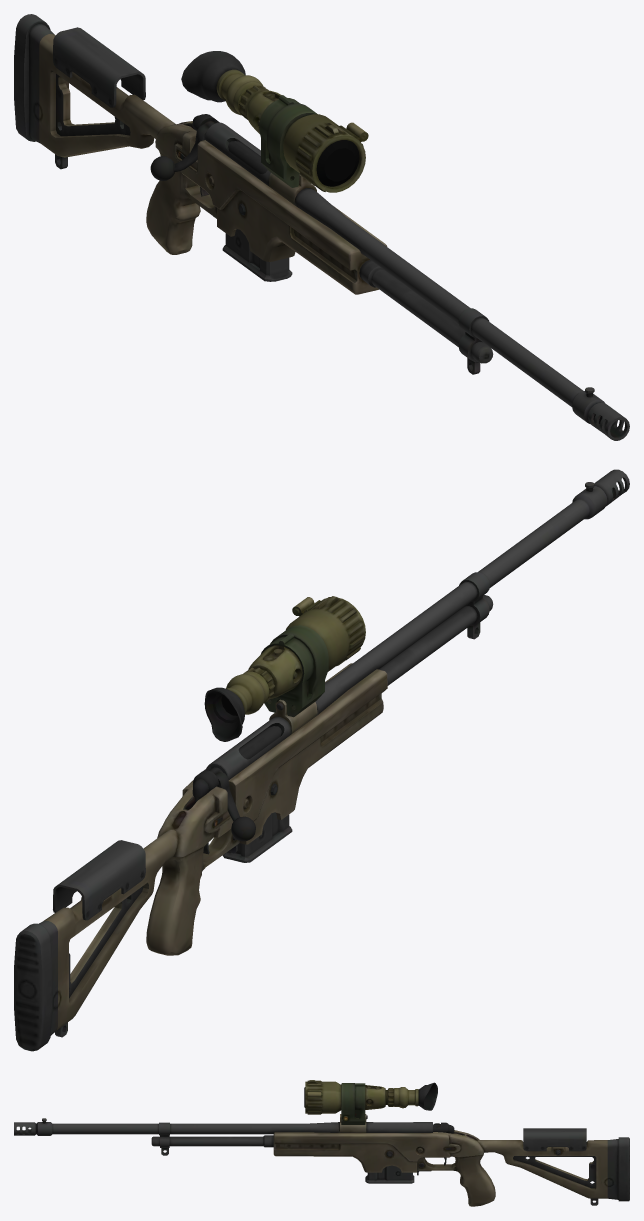
File: gun_sniper.glb
3 renders of one model, top to bottom at view 1: azimuth 30°, elevation 25°; view 2: azimuth 150°, elevation 25°; view 3: azimuth 270°, elevation 25°, orthographic. The views are drawn at different scales.
Parts seen in each view (by area): view 1: base_sniper_0; view 2: base_sniper_0; view 3: base_sniper_0.
Boxes of the visible parts, box(x1,y1,x2,y2) form: base_sniper_0: box(14, 14, 629, 440); base_sniper_0: box(14, 469, 629, 1051); base_sniper_0: box(14, 1080, 629, 1206).
Bounding box in the file's own units: 12.16 × 33.58 × 151.
1 material, 1 textured.
